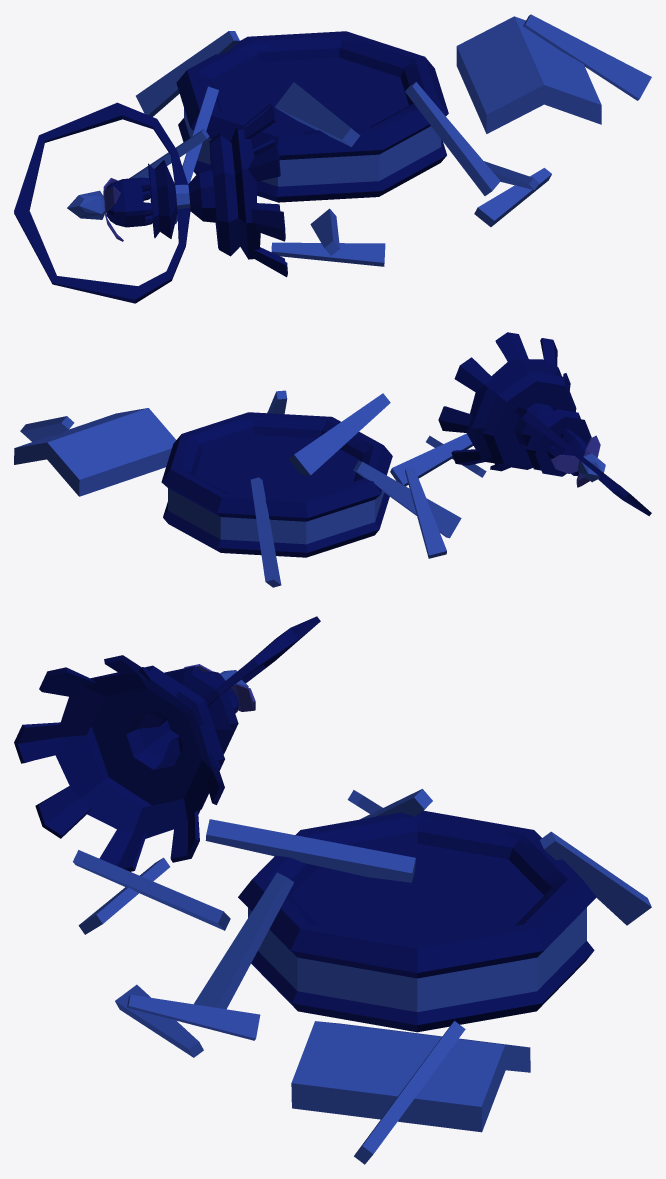
Rendered from ruin_kago.fbx.
The picture shows the model from 3 angles, top to bottom: view 1: azimuth 30°, elevation 25°; view 2: azimuth 150°, elevation 25°; view 3: azimuth 270°, elevation 25°; orthographic projection. The views are drawn at different scales.
Visible parts, largest first — view 1: kago.001, kago, door, 立方体.003, 立方体, 立方体.001, 立方体.006, 立方体.007, body.001, 立方体.002, 立方体.009, 立方体.008 (+3 smaller); view 2: kago.001, kago, door, 立方体.001, 立方体.009, 立方体.006, 立方体.005, 立方体.008, 立方体.003, body.001, flower.001, ha.004; view 3: kago.001, kago, door, 立方体.001, 立方体, 立方体.006, 立方体.008, 立方体.004, 立方体.003, 立方体.002, 立方体.007, 立方体.009.
Part boxes in pixels (x1,y1,x2,y2): kago.001: [176, 31, 448, 202]; kago: [14, 102, 287, 303]; door: [456, 16, 601, 133]; 立方体.003: [523, 14, 651, 100]; 立方体: [405, 82, 500, 195]; 立方体.001: [275, 82, 360, 146]; 立方体.006: [136, 31, 239, 116]; 立方体.007: [271, 242, 385, 266]; body.001: [106, 177, 152, 227]; 立方体.002: [474, 168, 551, 226]; 立方体.009: [175, 86, 218, 223]; 立方体.008: [310, 208, 339, 255]; kago.001: [161, 412, 392, 557]; kago: [438, 332, 651, 516]; door: [14, 408, 175, 496]; 立方体.001: [288, 393, 390, 476]; 立方体.009: [353, 460, 461, 538]; 立方体.006: [250, 477, 281, 587]; 立方体.005: [405, 466, 446, 558]; 立方体.008: [390, 433, 473, 486]; 立方体.003: [20, 416, 74, 441]; body.001: [547, 428, 587, 475]; flower.001: [577, 453, 605, 482]; ha.004: [551, 454, 579, 473]; kago.001: [238, 810, 596, 1032]; kago: [14, 616, 320, 871]; door: [291, 1021, 530, 1132]; 立方体.001: [205, 819, 415, 882]; 立方体: [194, 872, 293, 1009]; 立方体.006: [540, 831, 651, 925]; 立方体.008: [73, 850, 230, 930]; 立方体.004: [127, 994, 260, 1040]; 立方体.003: [354, 1021, 465, 1164]; 立方体.002: [115, 984, 203, 1057]; 立方体.007: [78, 857, 169, 934]; 立方体.009: [360, 789, 432, 819].
Size of the model in its own units: 677 by 169 by 435.
